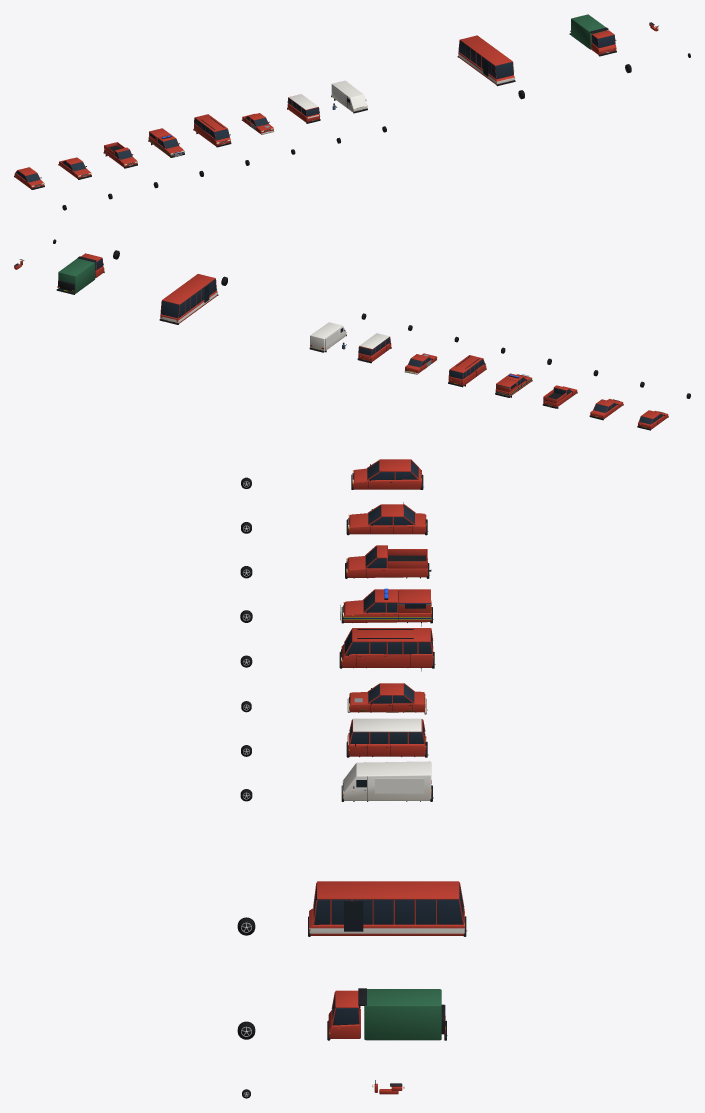
The model's file is vehicles.glb.
3 views of the same model, one above another, from view 1: azimuth 30°, elevation 25°; view 2: azimuth 150°, elevation 25°; view 3: azimuth 270°, elevation 25° (orthographic). The views are drawn at different scales.
Parts seen in each view (by area): view 1: bus, refuse, taxi, panel_van, combi, police, bakkie, sedan, hatch, skoro; view 2: bus, refuse, taxi, panel_van, combi, police, bakkie, sedan, skoro, hatch; view 3: bus, refuse, taxi, panel_van, combi, police, bakkie, sedan, skoro, hatch.
Part boxes in pixels (x1=…): bus: x1=457, y1=35, x2=515, y2=86; refuse: x1=569, y1=14, x2=616, y2=56; taxi: x1=193, y1=114, x2=231, y2=147; panel_van: x1=331, y1=80, x2=367, y2=113; combi: x1=287, y1=94, x2=320, y2=123; police: x1=148, y1=128, x2=184, y2=157; bakkie: x1=103, y1=142, x2=137, y2=168; sedan: x1=58, y1=157, x2=91, y2=179; hatch: x1=14, y1=167, x2=44, y2=189; skoro: x1=241, y1=113, x2=274, y2=134; bus: x1=159, y1=274, x2=218, y2=324; refuse: x1=56, y1=253, x2=104, y2=294; taxi: x1=448, y1=355, x2=486, y2=387; panel_van: x1=309, y1=322, x2=346, y2=352; combi: x1=357, y1=333, x2=391, y2=363; police: x1=495, y1=373, x2=532, y2=397; bakkie: x1=542, y1=385, x2=577, y2=408; sedan: x1=589, y1=398, x2=623, y2=420; skoro: x1=404, y1=353, x2=437, y2=374; hatch: x1=637, y1=410, x2=668, y2=430; bus: x1=308, y1=881, x2=467, y2=936; refuse: x1=327, y1=988, x2=447, y2=1040; taxi: x1=339, y1=628, x2=435, y2=671; panel_van: x1=341, y1=761, x2=433, y2=801; combi: x1=346, y1=718, x2=428, y2=757; police: x1=340, y1=588, x2=433, y2=626; bakkie: x1=345, y1=545, x2=431, y2=578; sedan: x1=346, y1=502, x2=428, y2=535; skoro: x1=347, y1=683, x2=427, y2=714; hatch: x1=351, y1=459, x2=424, y2=489.
Bounding box in the file's own units: 83.32 × 2.8 × 13.05.
